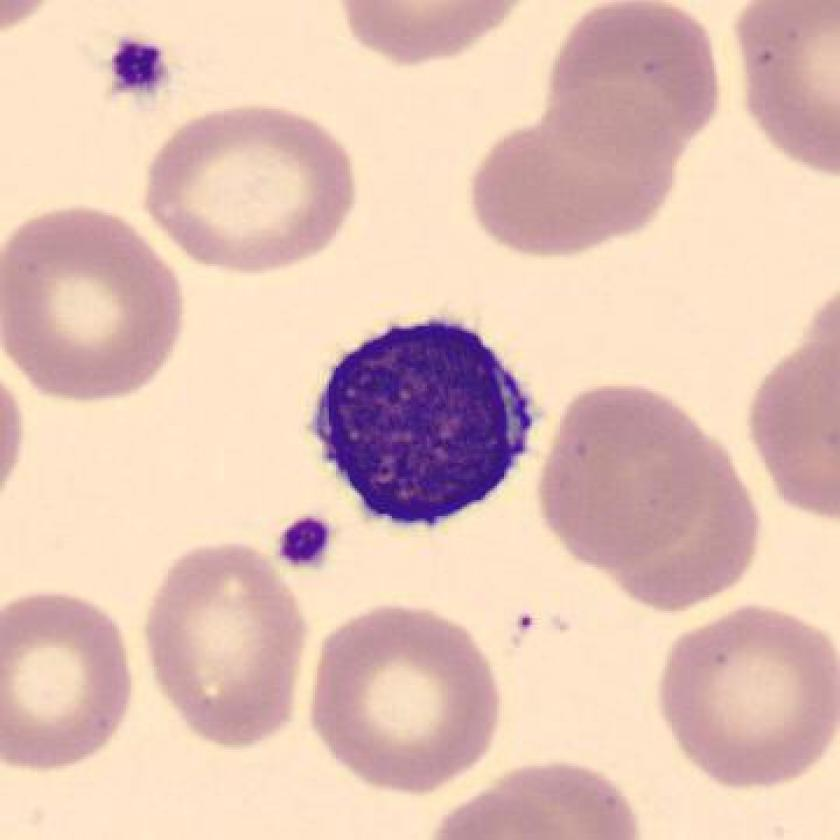lymphocyte: (295, 309, 554, 538)
